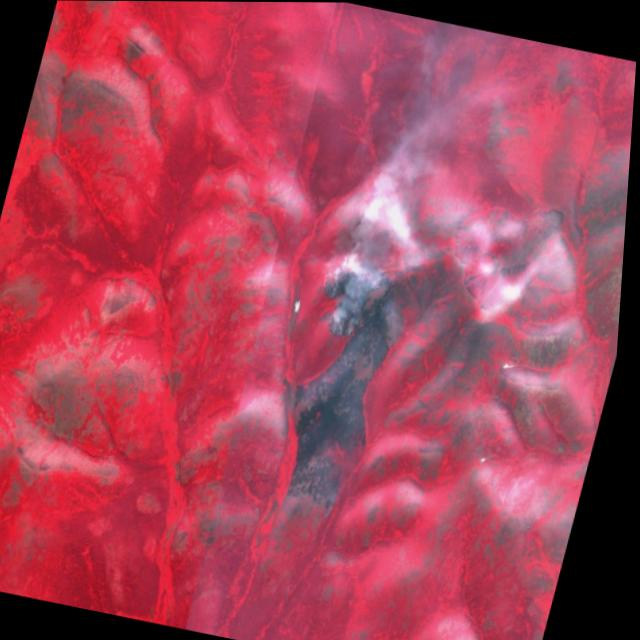fire: (310, 242, 429, 354)
